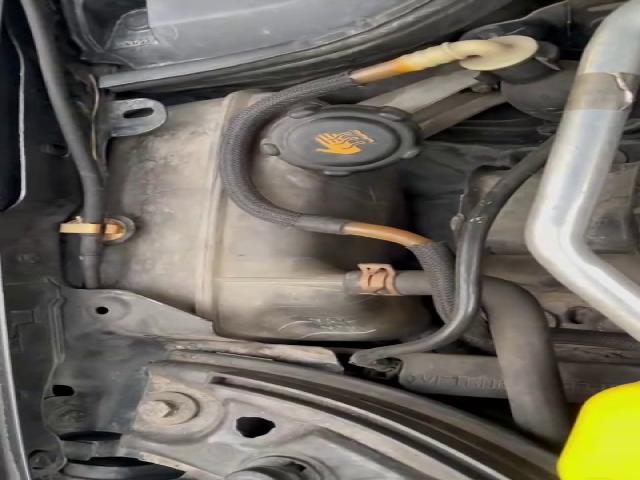antifreeze_tank: (106, 91, 428, 341), (254, 104, 422, 214)
